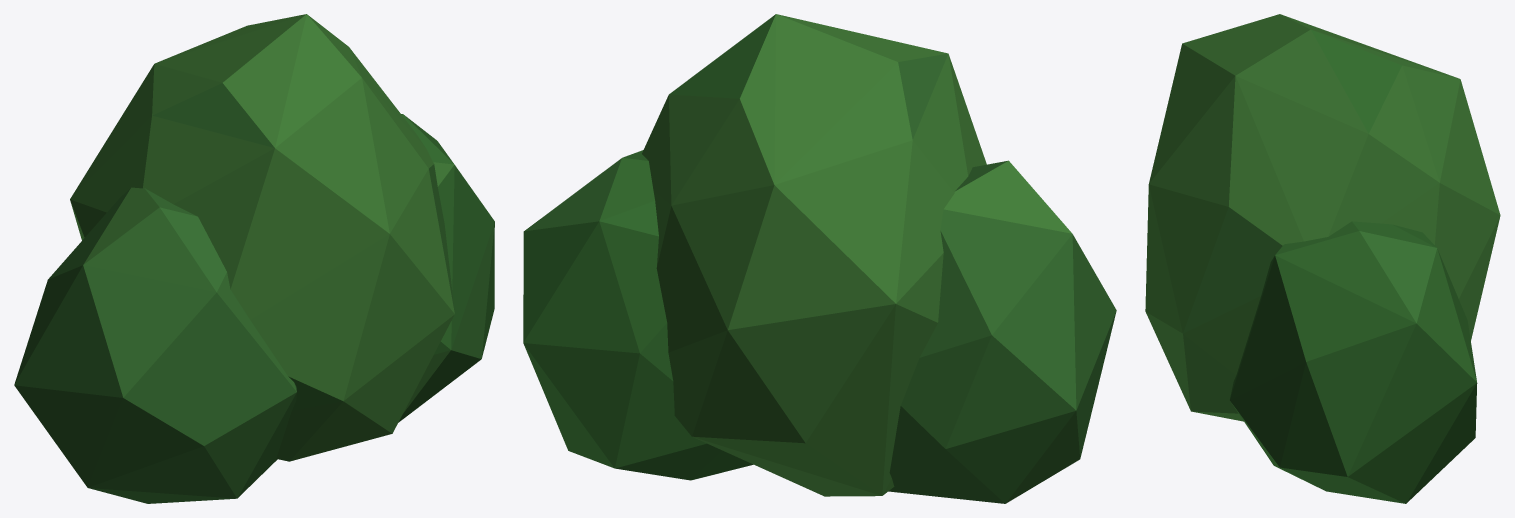
File: arbusto.glb
3 views of the same model, side by side, from view 1: azimuth 30°, elevation 25°; view 2: azimuth 150°, elevation 25°; view 3: azimuth 270°, elevation 25° (orthographic). The views are drawn at different scales.
Parts seen in each view (by area): view 1: arbusto_cuerpo; view 2: arbusto_cuerpo; view 3: arbusto_cuerpo.
Part boxes in pixels (bbox=[...]): arbusto_cuerpo: bbox=[14, 14, 494, 503]; arbusto_cuerpo: bbox=[523, 14, 1116, 503]; arbusto_cuerpo: bbox=[1145, 14, 1500, 503].
Bounding box in the file's own units: 1 × 0.8 × 0.6373.
